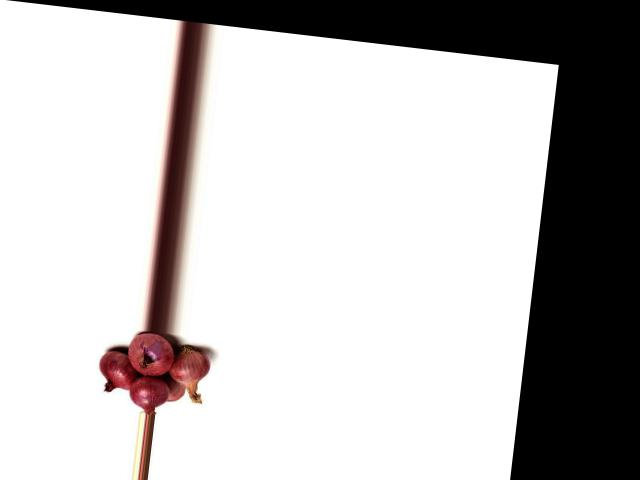onion: (124, 329, 185, 379)
